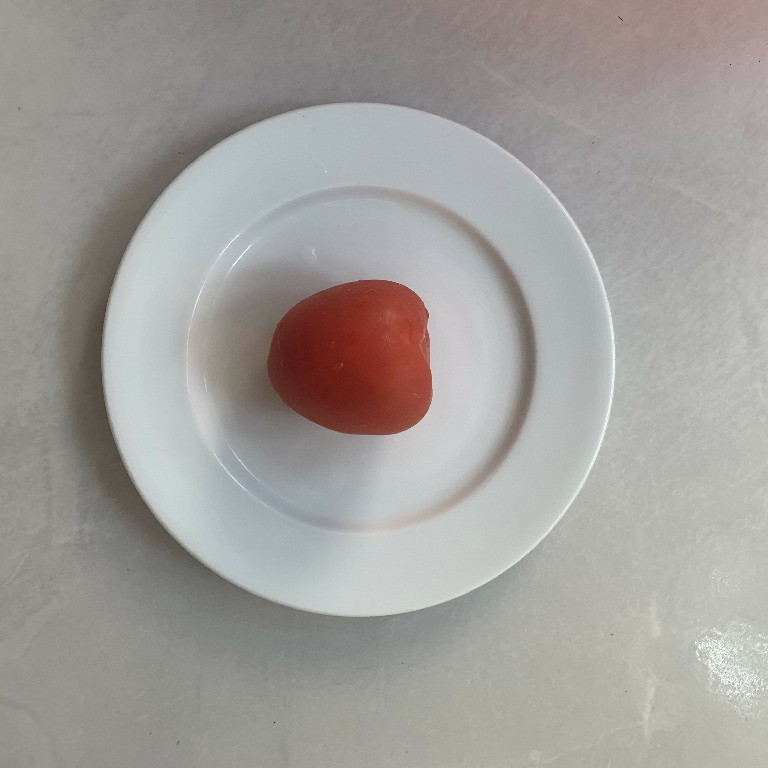OK: (260, 272, 439, 442)
